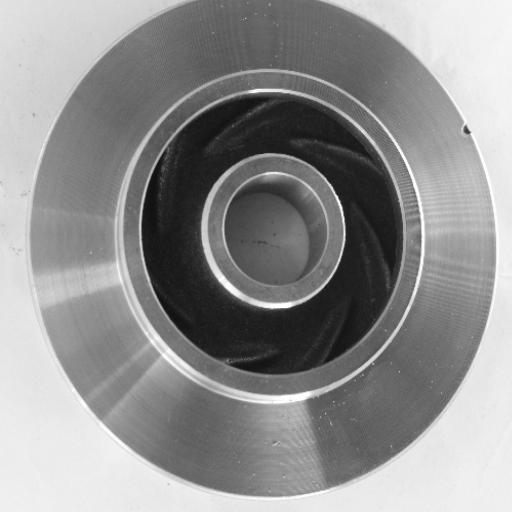crack: (452, 112, 487, 144)
unpolished_casting: (29, 0, 496, 502)
